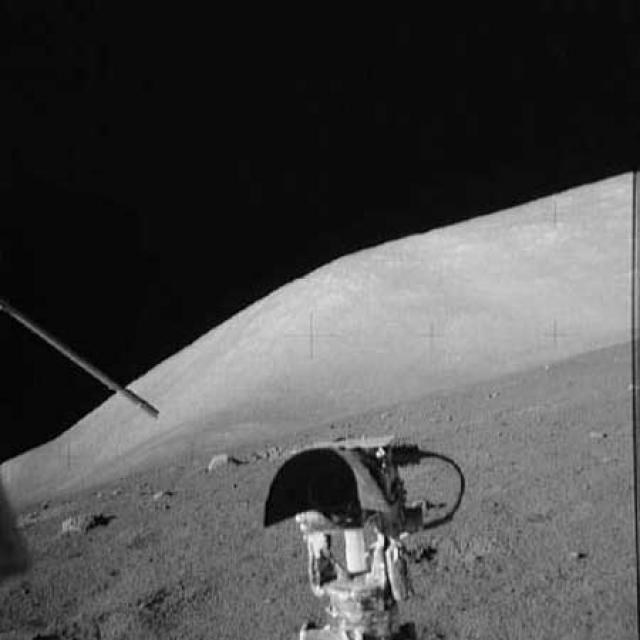artifact: (260, 430, 468, 638), (0, 293, 162, 427)
rock: (57, 506, 117, 538), (204, 449, 239, 474)
